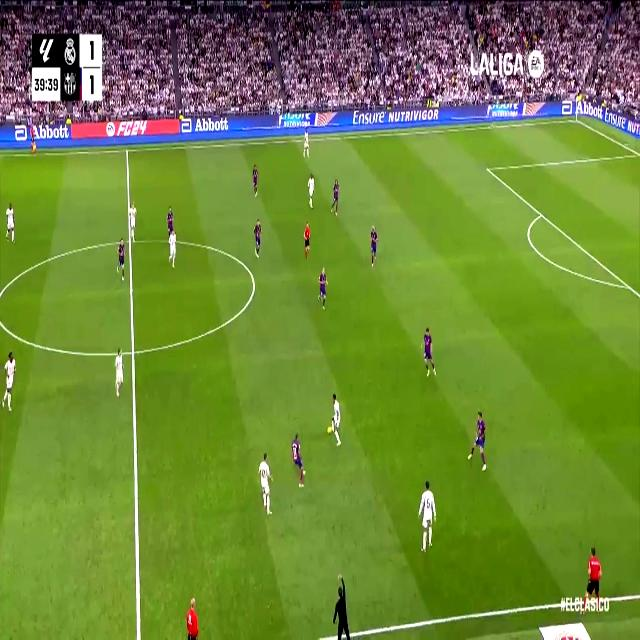bigarea_top_inner: (484, 162, 491, 176)
bottom_arc_area_intersection: (624, 276, 632, 295)
corner: (572, 114, 579, 124)
halfcircle_bottom: (128, 338, 138, 364)
halfcircle_top: (124, 232, 134, 250)
midline_top_intersection: (124, 143, 130, 157)
top_arc_area_intersection: (537, 207, 545, 220)
